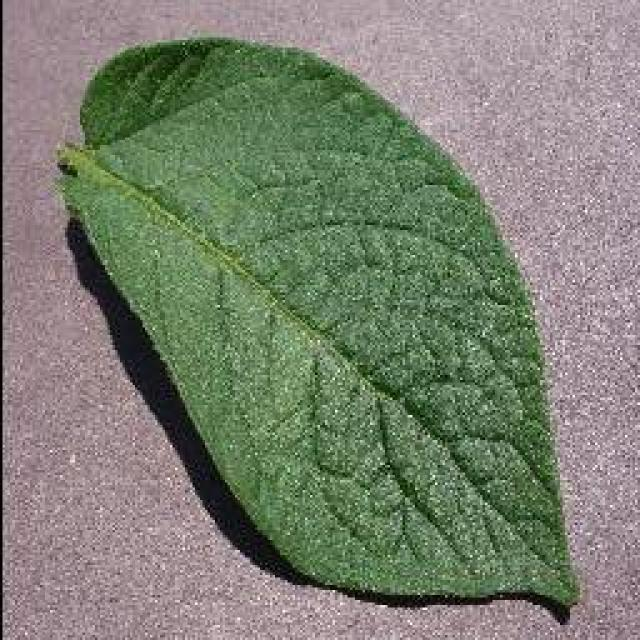Potato___healthy: (49, 31, 584, 608)
